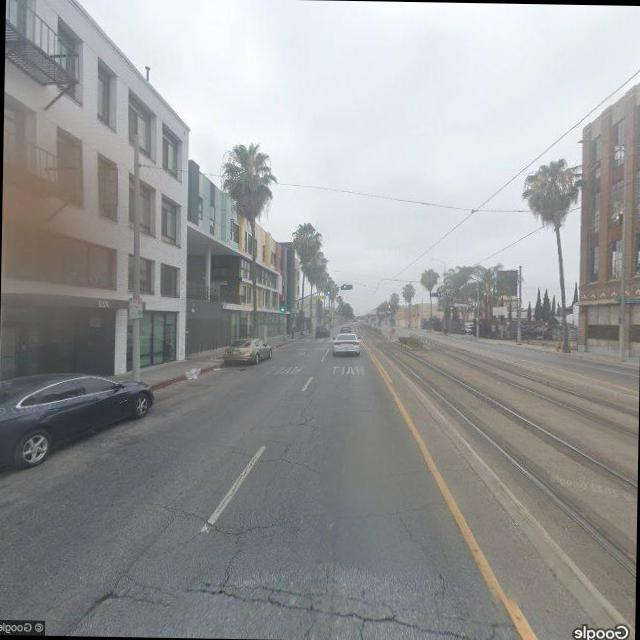crack: (102, 489, 496, 640)
